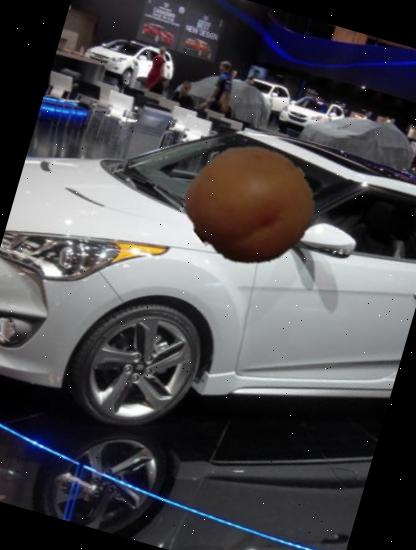Apricot: (174, 128, 328, 282)
